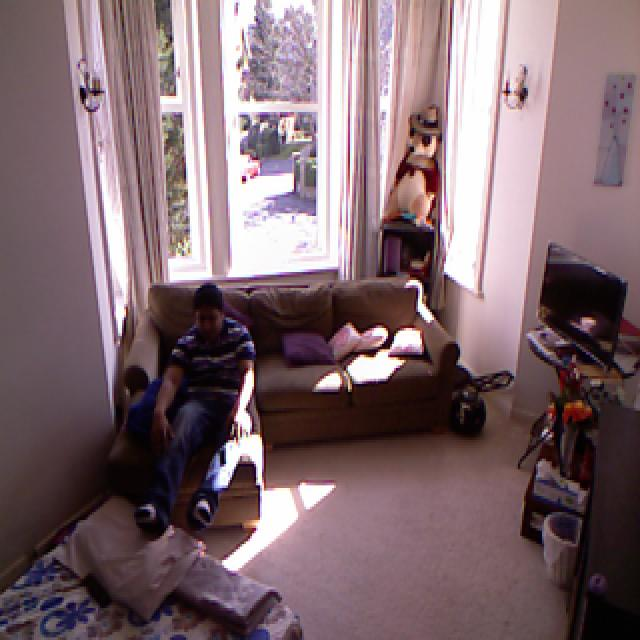bending: (138, 281, 258, 530)
